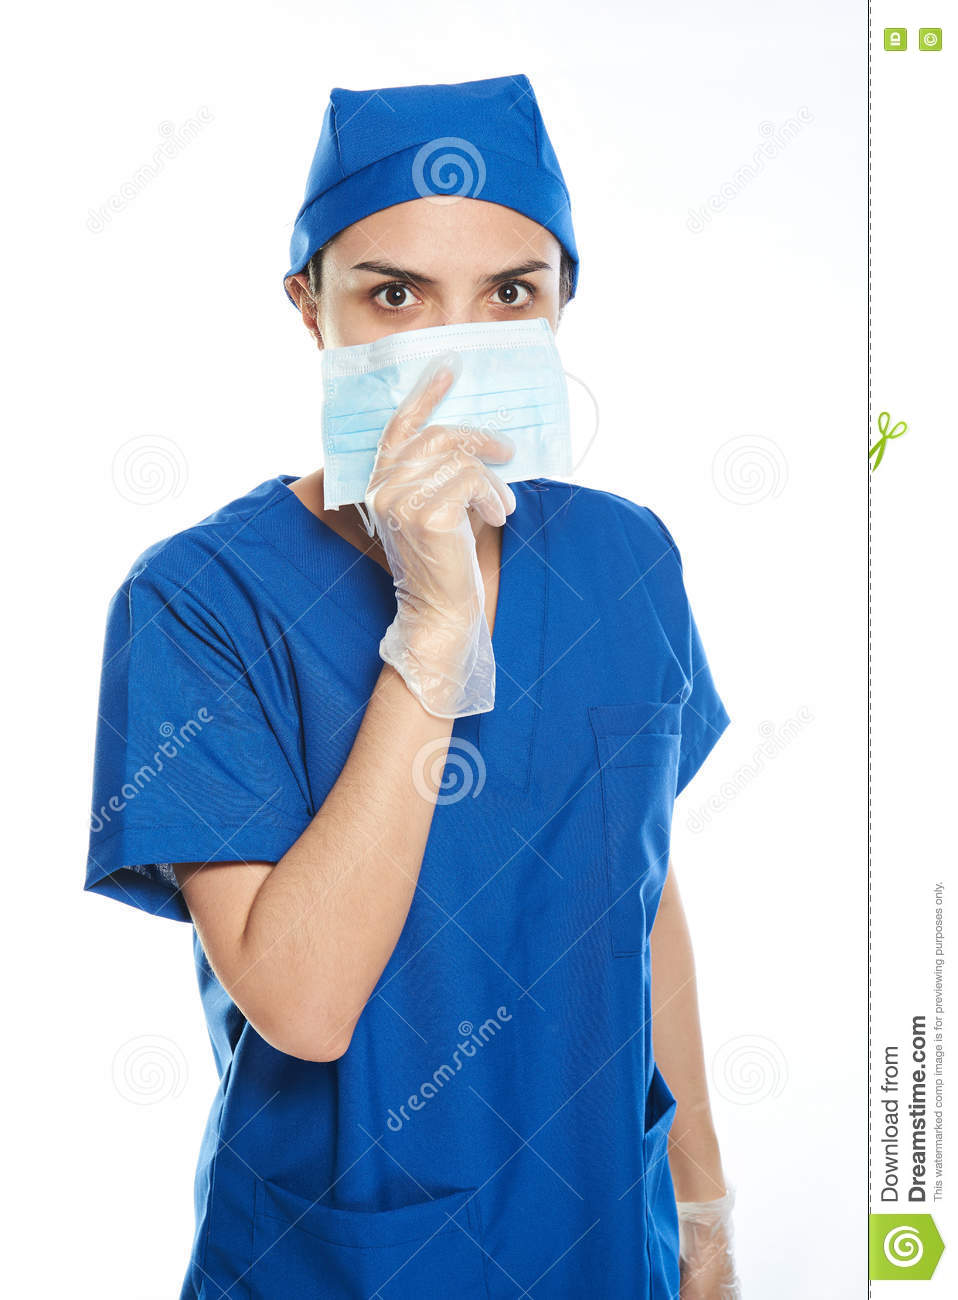mask: (325, 311, 579, 507)
